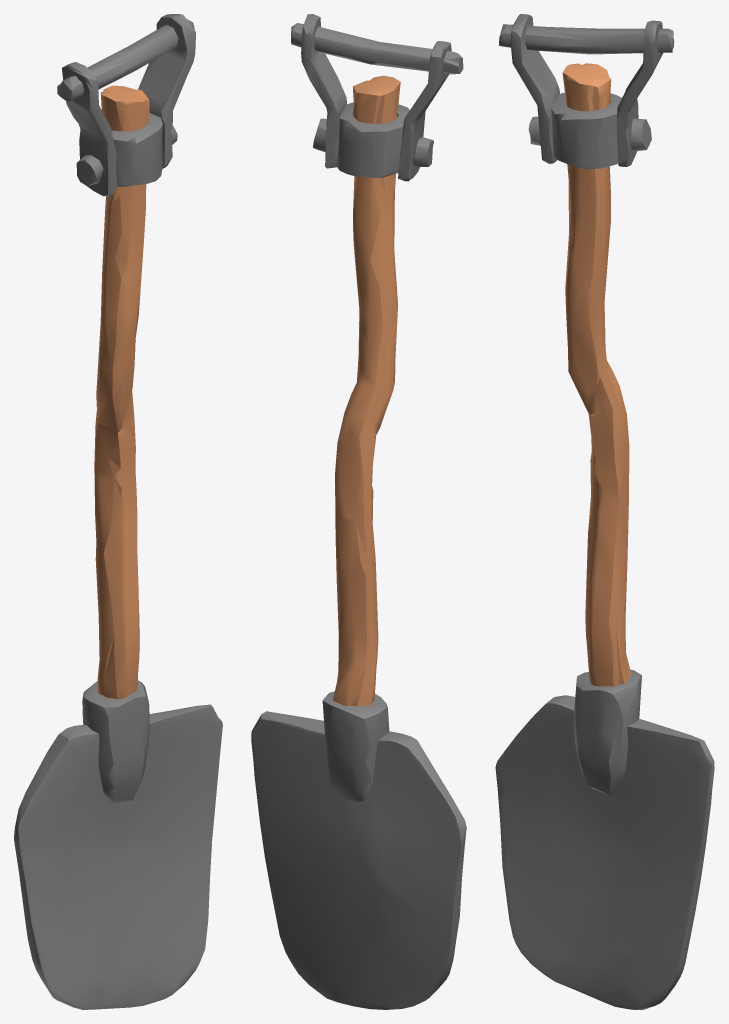
The model's file is SM_Shovel_B.fbx.
3 views of the same model, side by side, from view 1: azimuth 30°, elevation 25°; view 2: azimuth 150°, elevation 25°; view 3: azimuth 330°, elevation 25° (orthographic).
Parts seen in each view (by area): view 1: SM_Shovel_B; view 2: SM_Shovel_B; view 3: SM_Shovel_B.
Part boxes in pixels (x1,y1,x2,y2): SM_Shovel_B: (14, 14, 222, 1009); SM_Shovel_B: (251, 14, 466, 1009); SM_Shovel_B: (495, 14, 714, 1009).
Bounding box in the file's own units: 36.57 × 163 × 15.14.
